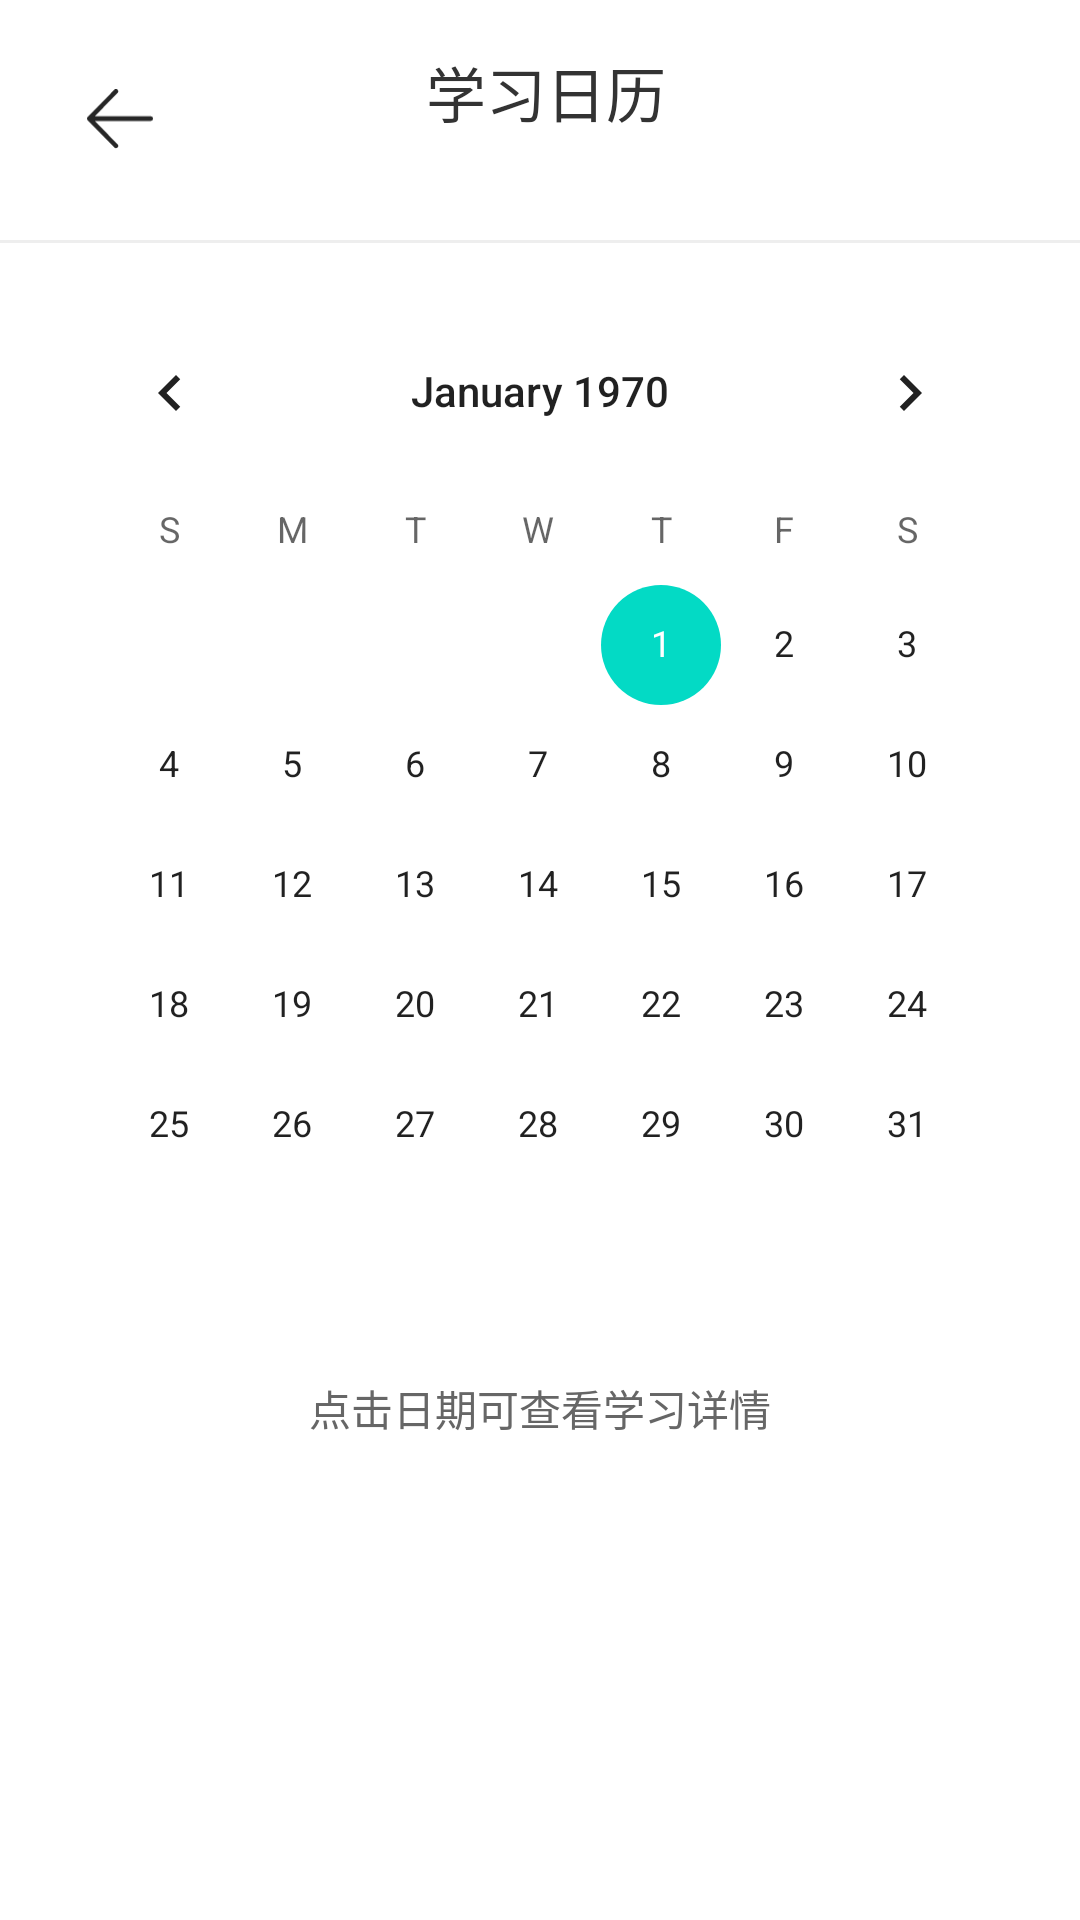

Icon click points for this 1080 x 1920 phone screenshot, format (x=x, y=y):
back: (x=120, y=119)
